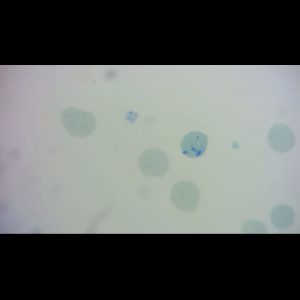aggregate reticulocyte: (178, 129, 210, 159)
erythrocyte: (135, 146, 171, 179), (268, 203, 296, 230)
punctate reticulocyte: (59, 106, 97, 139), (167, 179, 202, 213), (265, 121, 296, 154)
